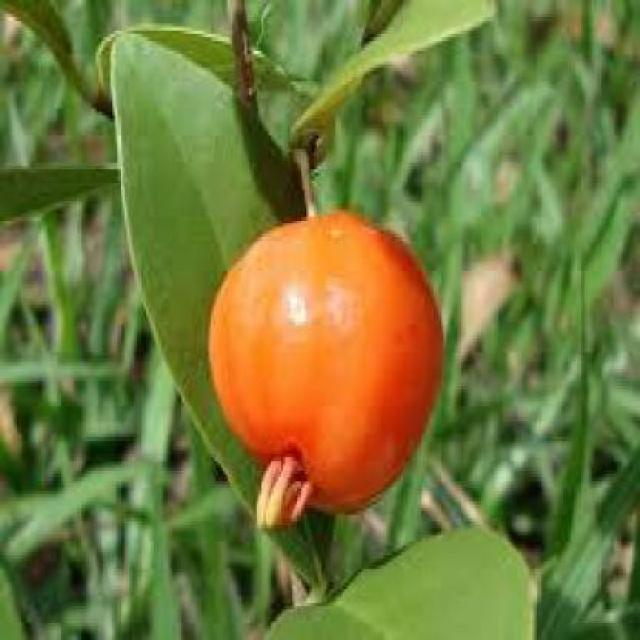BIODEGRADABLE: (208, 212, 442, 526)
